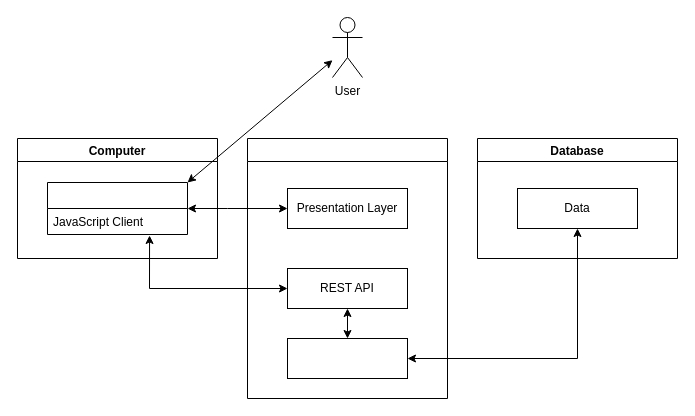
Image size: 695x416. Some labels were removed from this diagram. The box of each missing label's shape, as (x1, y1, x2, y2) in pixels:
ORM: (286, 338, 408, 378)
Web Browser: (46, 182, 188, 234)
Web Server: (246, 138, 448, 398)
